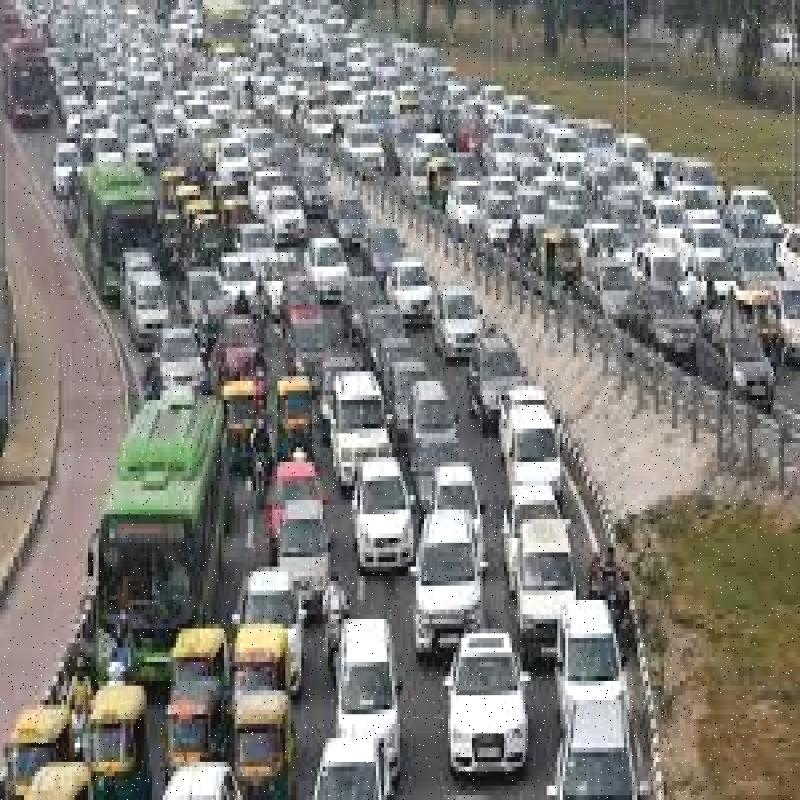auto: (82, 665, 145, 798), (1, 695, 71, 789), (237, 700, 299, 800), (165, 620, 220, 704), (237, 615, 287, 707)
car: (444, 620, 530, 798), (408, 490, 484, 677), (550, 590, 630, 742), (511, 505, 582, 657), (336, 607, 394, 761), (350, 454, 411, 582), (334, 359, 387, 492), (430, 462, 485, 550)
